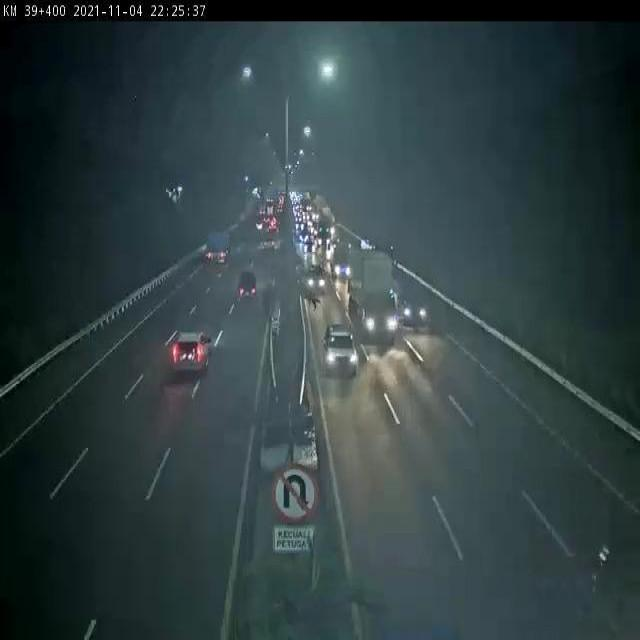car: (321, 326, 357, 378), (171, 328, 209, 376), (390, 273, 425, 324), (237, 268, 260, 303), (332, 243, 353, 281), (303, 265, 327, 295), (259, 237, 276, 256)
truck-s-: (202, 229, 229, 271)
truck-xl-: (349, 250, 397, 346)
